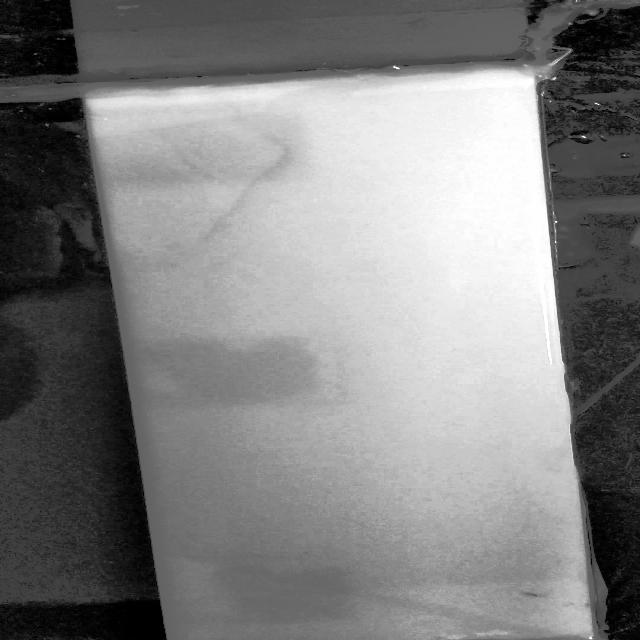shrimp: (515, 585, 548, 601)
